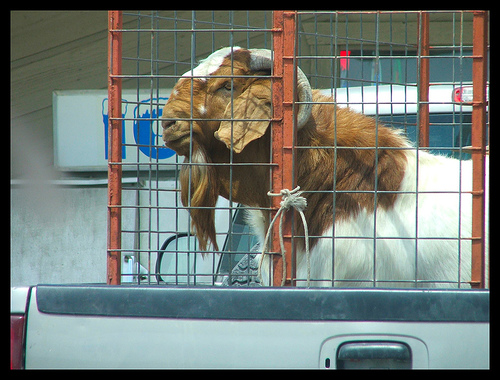goat: (161, 46, 489, 290)
